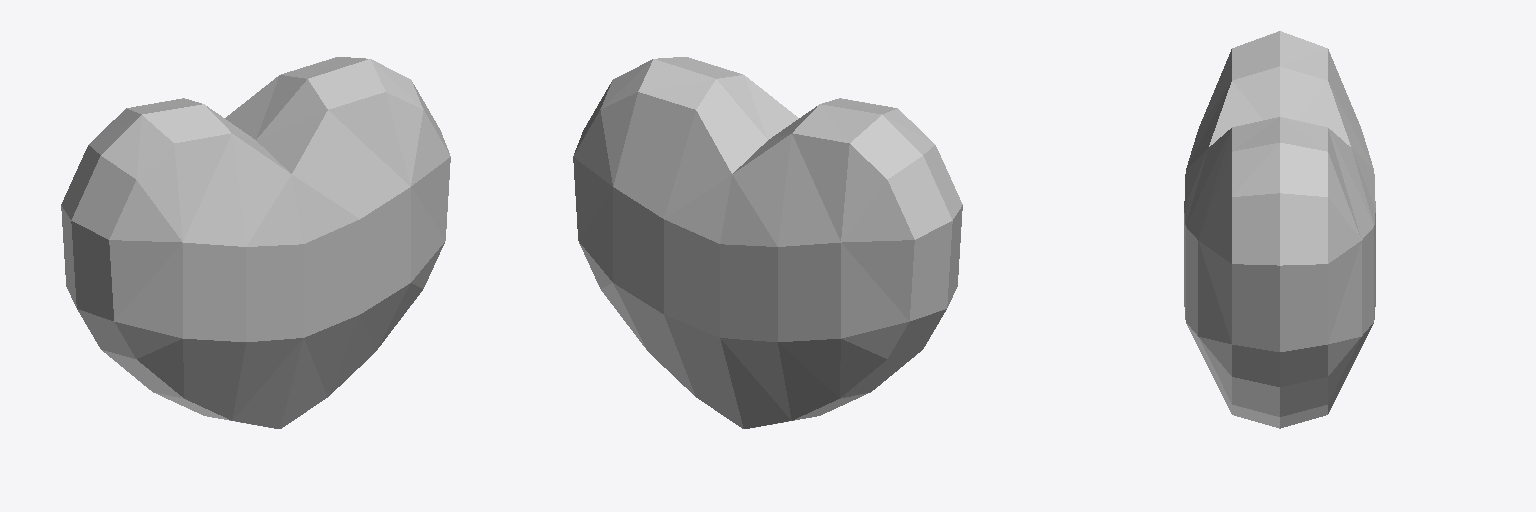
The model's file is Corazon.obj.
3 views of the same model, side by side, from view 1: azimuth 30°, elevation 25°; view 2: azimuth 150°, elevation 25°; view 3: azimuth 270°, elevation 25° (orthographic).
Parts seen in each view (by area): view 1: Mesh; view 2: Mesh; view 3: Mesh.
Part boxes in pixels (left/top/right/bottom): Mesh: left=61, top=57, right=450, bottom=428; Mesh: left=573, top=57, right=962, bottom=428; Mesh: left=1184, top=31, right=1375, bottom=428.
Bounding box in the file's own units: 2.95 × 2.58 × 1.32.